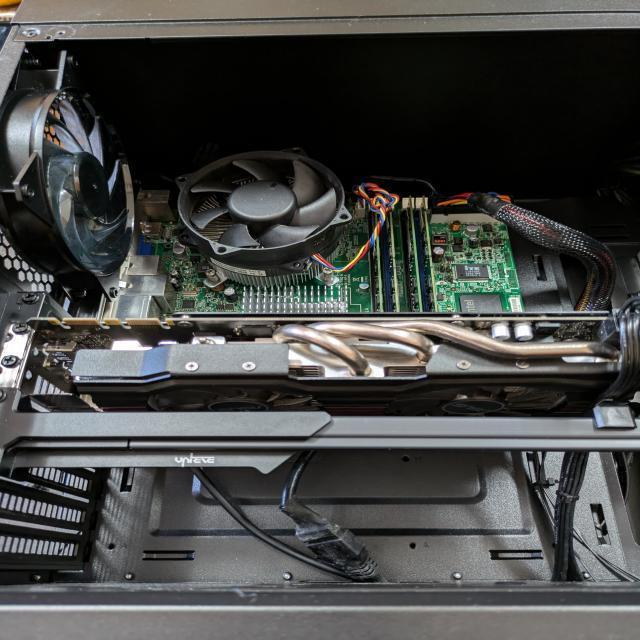CPU_Fan: (173, 145, 354, 290)
Mainboard: (140, 189, 524, 311)
RAM: (418, 196, 438, 312), (404, 196, 422, 312), (386, 212, 400, 312), (370, 212, 383, 312)
